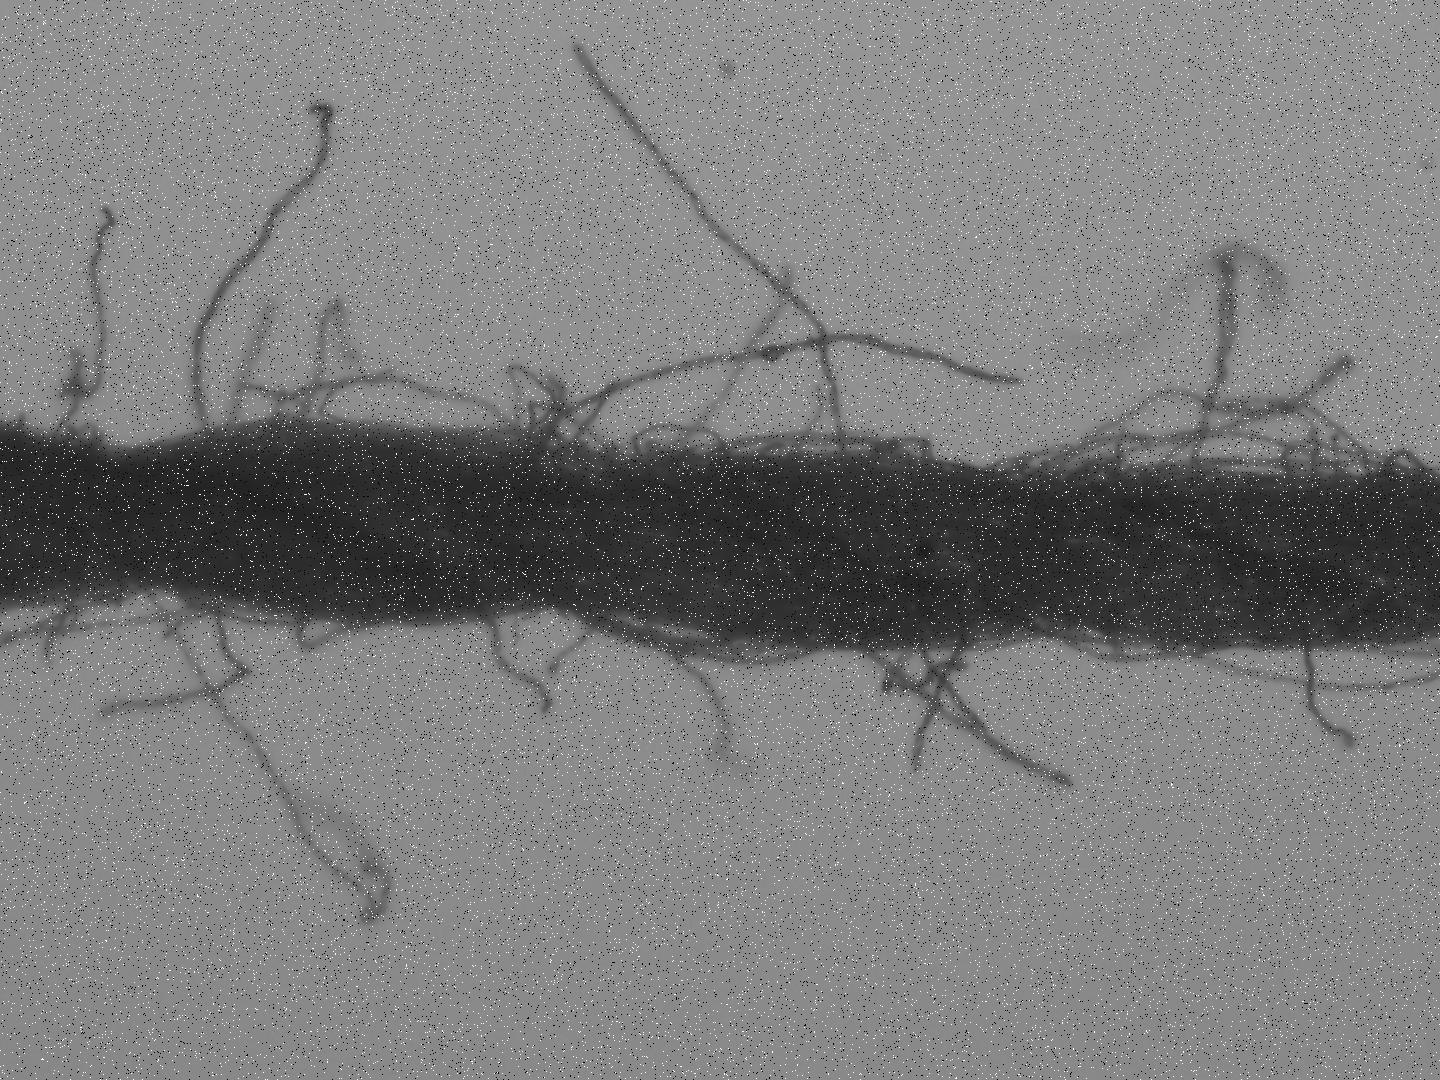loop_fiber: (1035, 388, 1371, 479), (568, 602, 815, 660), (268, 376, 508, 432), (1047, 630, 1186, 668), (729, 436, 880, 461), (625, 424, 722, 462), (192, 594, 304, 626), (296, 616, 369, 652), (879, 440, 933, 469), (1378, 448, 1424, 479)
protruding_fiber: (568, 40, 849, 458), (136, 587, 386, 922), (187, 100, 332, 434), (854, 643, 1069, 792), (482, 619, 559, 717), (1297, 638, 1353, 752)
